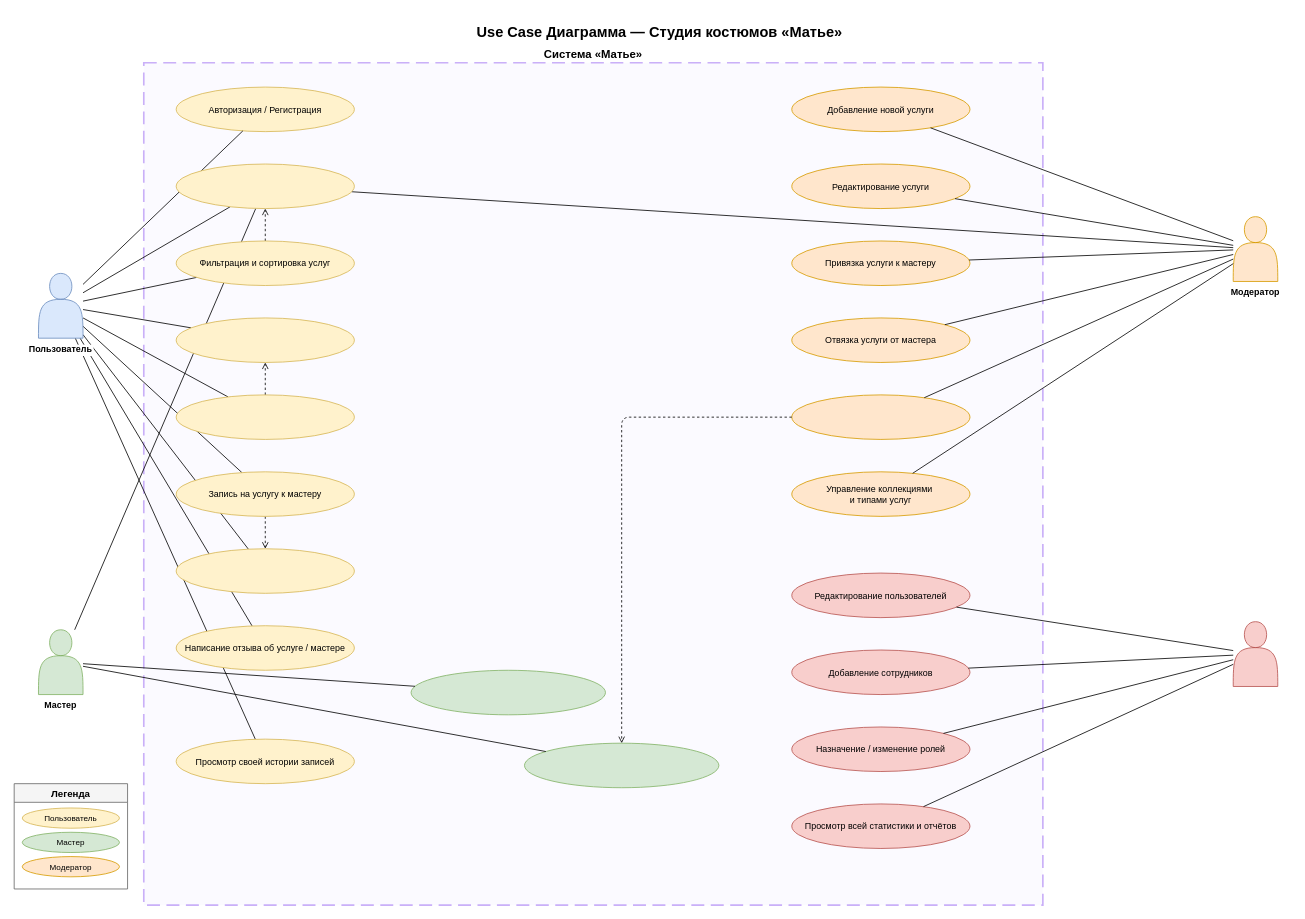
Some shapes in this 1305 by 919 pixel diagram are drawn without their labels. Here are the shapes that lost their labels. From the top down, the centre of each, then its label:
At pixel 264 186: "Просмотр списка услуг".
At pixel 264 339: "Просмотр баланса".
At pixel 264 416: "Пополнение баланса с карты".
At pixel 880 416: "Одобрение повышения квалификации мастера".
At pixel 264 570: "Получение номера в очереди".
At pixel 1255 653: "Администратор".
At pixel 507 692: "Просмотр списка своих клиентов и записей".
At pixel 621 765: "Подача заявки на повышение квалификации".
